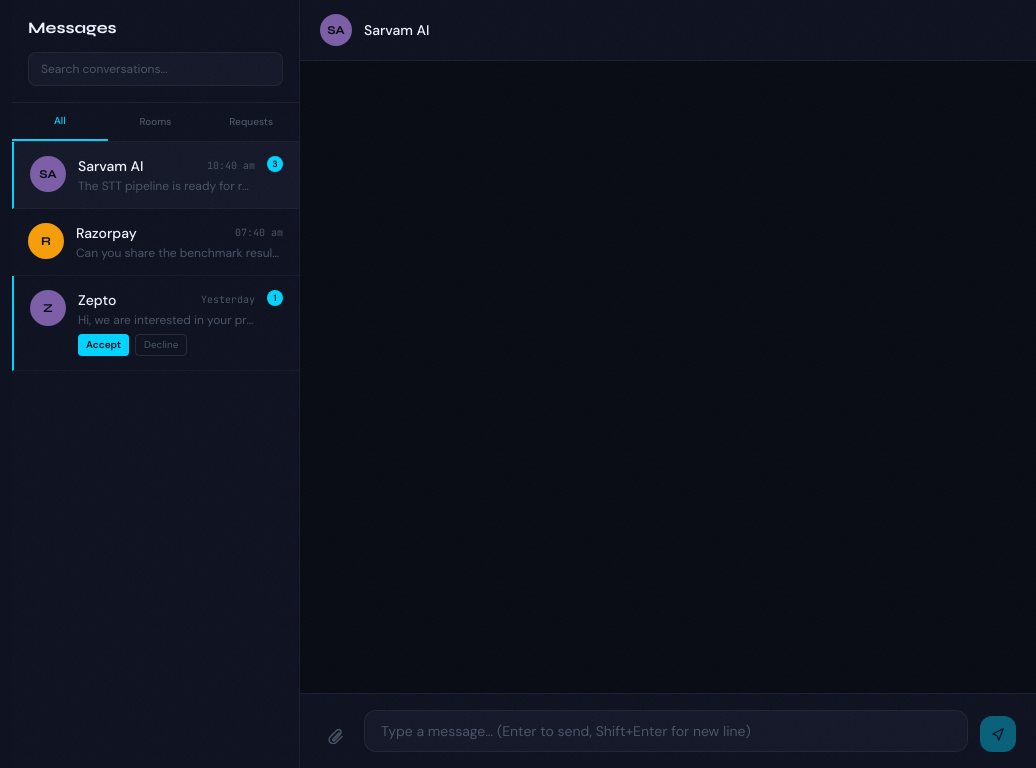
Test case: MessagesPage — off-platform warning › shows off-platform warning when phone number is typed
Type "Call me at 9876543210" into the text box with test id "message-input" at (666, 731), box 364,710 -> 968,752
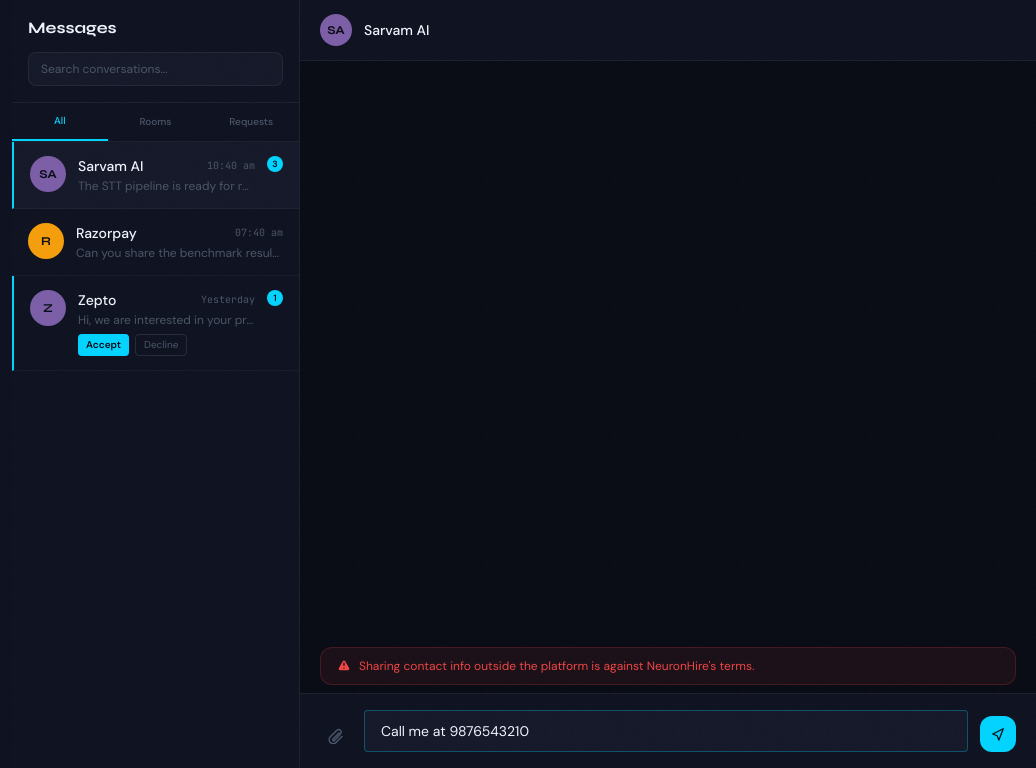
Expected: the message "Sharing contact info outside the platform is against NeuronHire's terms." is shown, 320,647 -> 1016,685
Expected: the text "Sharing contact info" is shown, 359,658 -> 754,674
